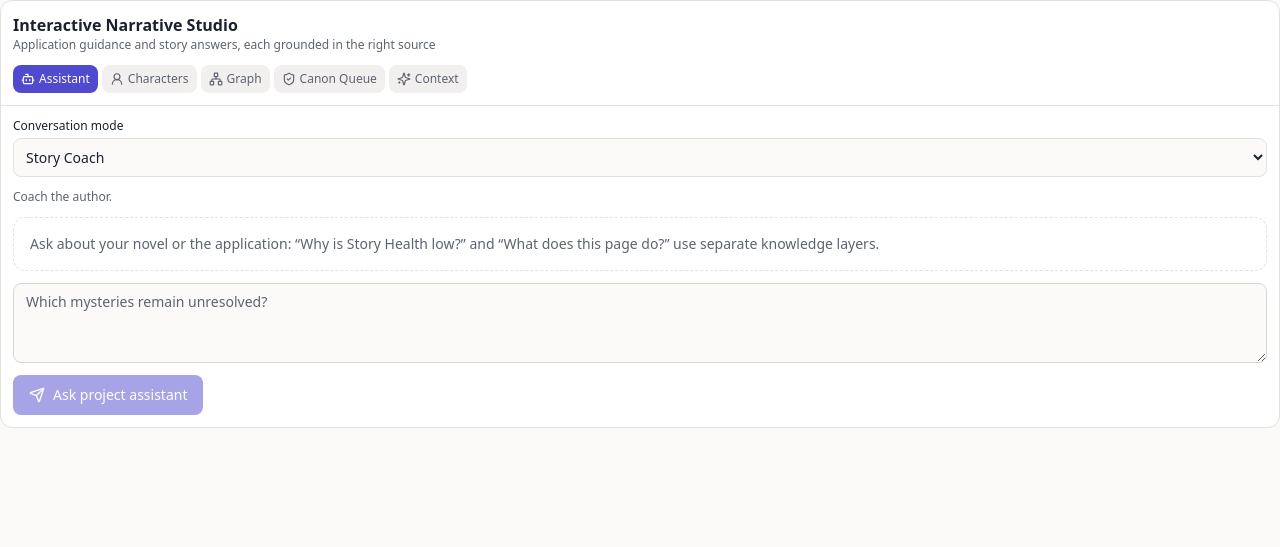
it: asks the grounded project assistant and executes a navigation action
Later steps or results of the test are not shown.
Expected: the text "Ask about your novel or the application" is shown, [30,234,879,253]
Select "Continuity Expert" in the dropdown named "Assistant mode" at (640, 158), box [13,138,1267,177]
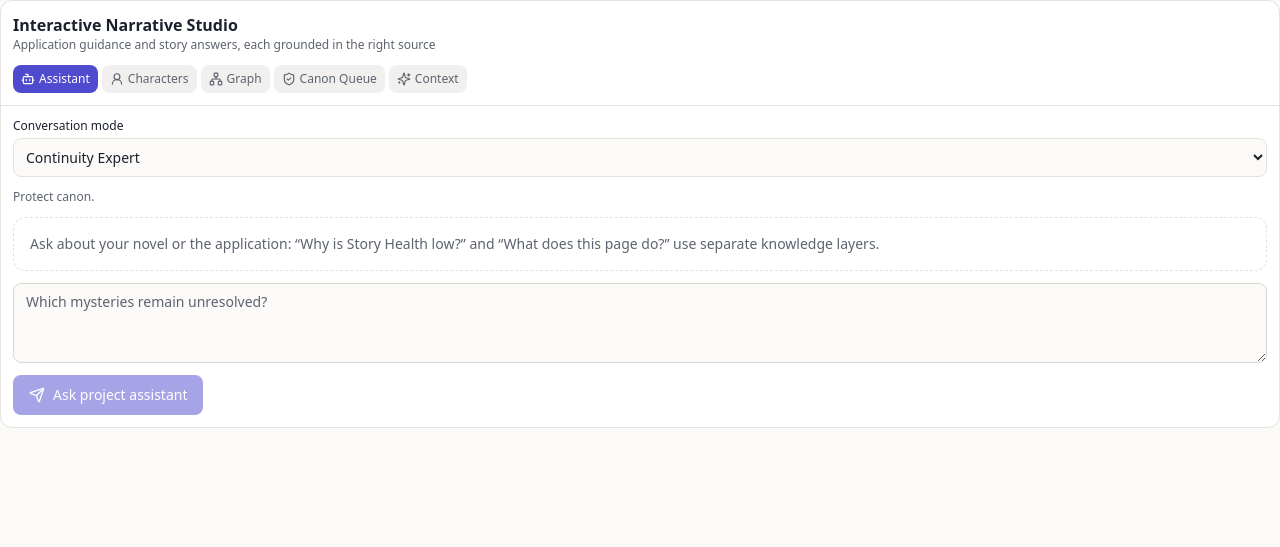
Type "Open Chapter 12" into the text box named "Ask the project assistant".
click(640, 323); type("Open Chapter 12")  # box [13,283,1267,363]
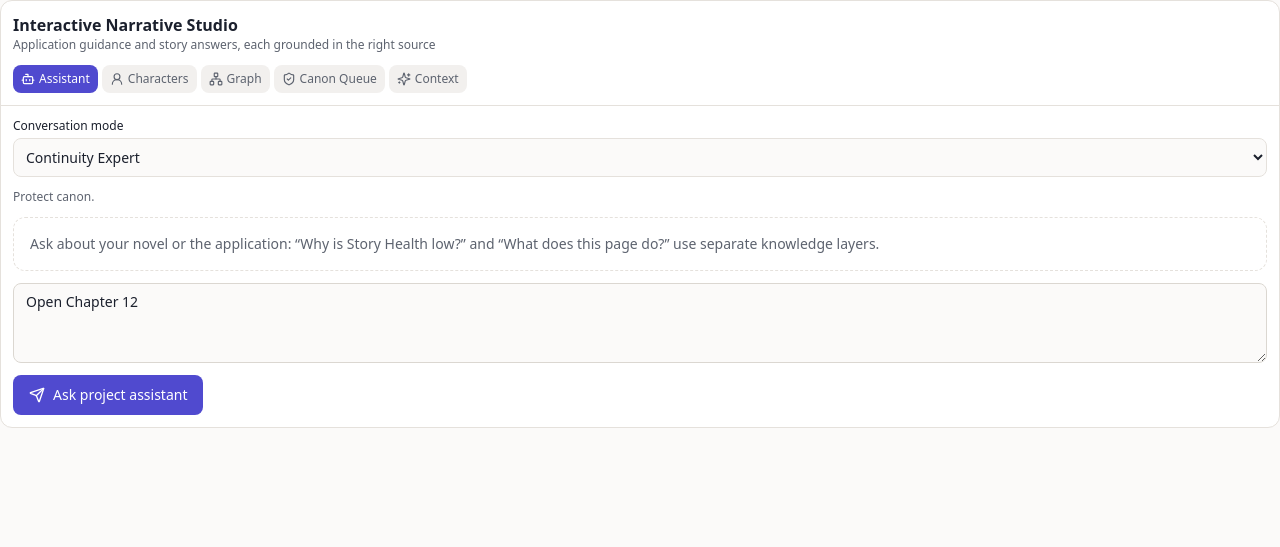
Click the button with test id "ask-project-assistant".
click(108, 395)  # box [13,375,204,415]
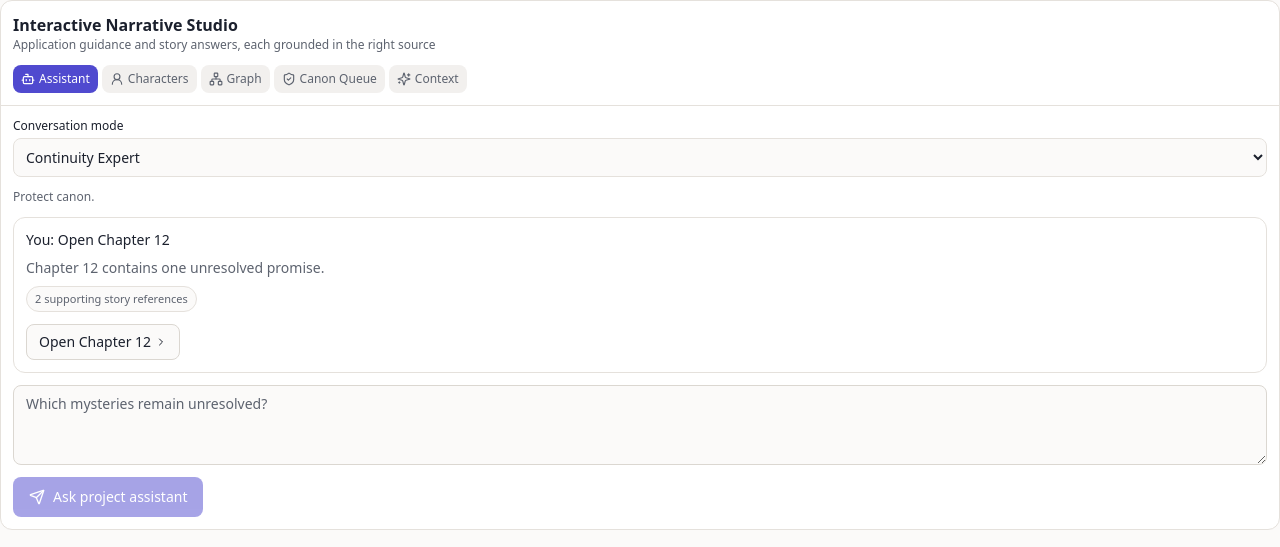
Now the text "Chapter 12 contains one unresolved promise." is shown, box [26,258,324,277]
Now the text "2 supporting story references" is shown, box [26,286,197,312]
